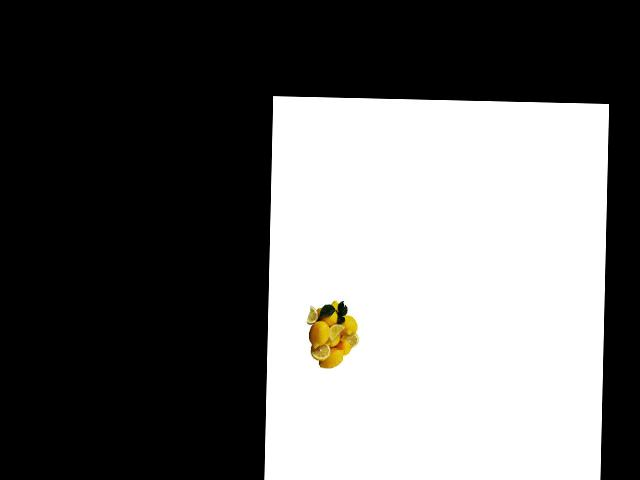lemon: (316, 306, 338, 329)
